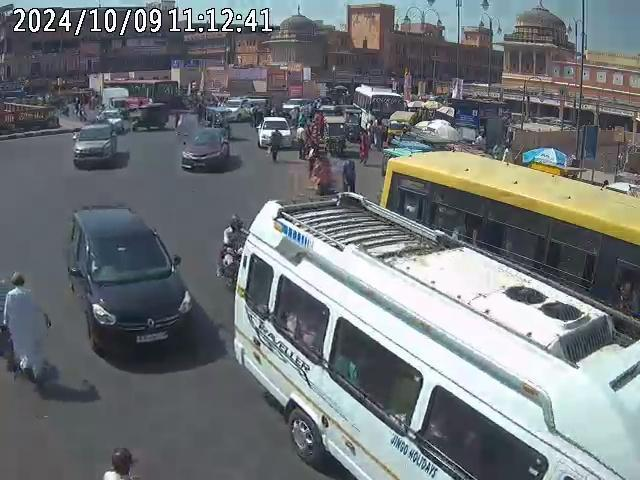auto: (321, 117, 348, 153)
bus: (227, 187, 635, 478), (380, 147, 640, 300), (351, 81, 404, 132), (116, 79, 183, 108)
car: (61, 205, 193, 363), (179, 127, 233, 172), (71, 124, 120, 169), (131, 102, 170, 132), (257, 115, 292, 148), (99, 113, 130, 137)
license_plate: (135, 330, 169, 343)
person: (0, 271, 55, 388), (308, 150, 337, 195)
